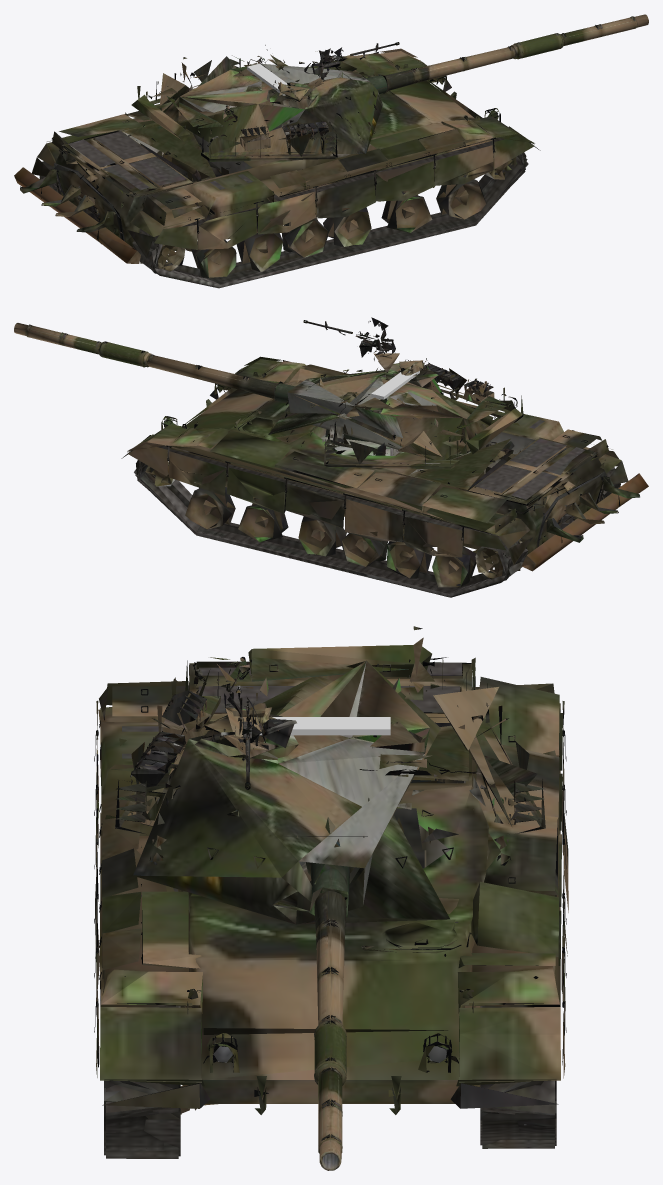
Rendered from type96.glb.
3 renders of one model, top to bottom at view 1: azimuth 30°, elevation 25°; view 2: azimuth 150°, elevation 25°; view 3: azimuth 270°, elevation 25°, orthographic. The views are drawn at different scales.
Parts seen in each view (by area): view 1: g_type96_hull, g_type96_turret, g_type96_gun; view 2: g_type96_hull, g_type96_turret, g_type96_gun; view 3: g_type96_hull, g_type96_turret, g_type96_gun.
Boxes of the visible parts, bbox=[...] form: g_type96_hull: bbox=[14, 43, 540, 288]; g_type96_turret: bbox=[124, 16, 635, 177]; g_type96_gun: bbox=[350, 14, 648, 94]; g_type96_hull: bbox=[121, 321, 648, 597]; g_type96_turret: bbox=[27, 317, 523, 489]; g_type96_gun: bbox=[14, 320, 352, 403]; g_type96_hull: bbox=[94, 645, 568, 1158]; g_type96_turret: bbox=[115, 626, 545, 1148]; g_type96_gun: bbox=[245, 738, 353, 1170].
Size of the model in its own units: 10.3 by 3 by 3.55.
4 materials, 3 textured.
